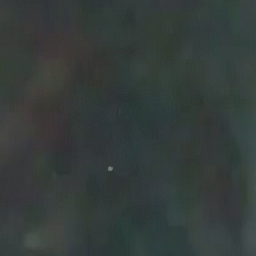Target: (107, 165, 115, 173)
